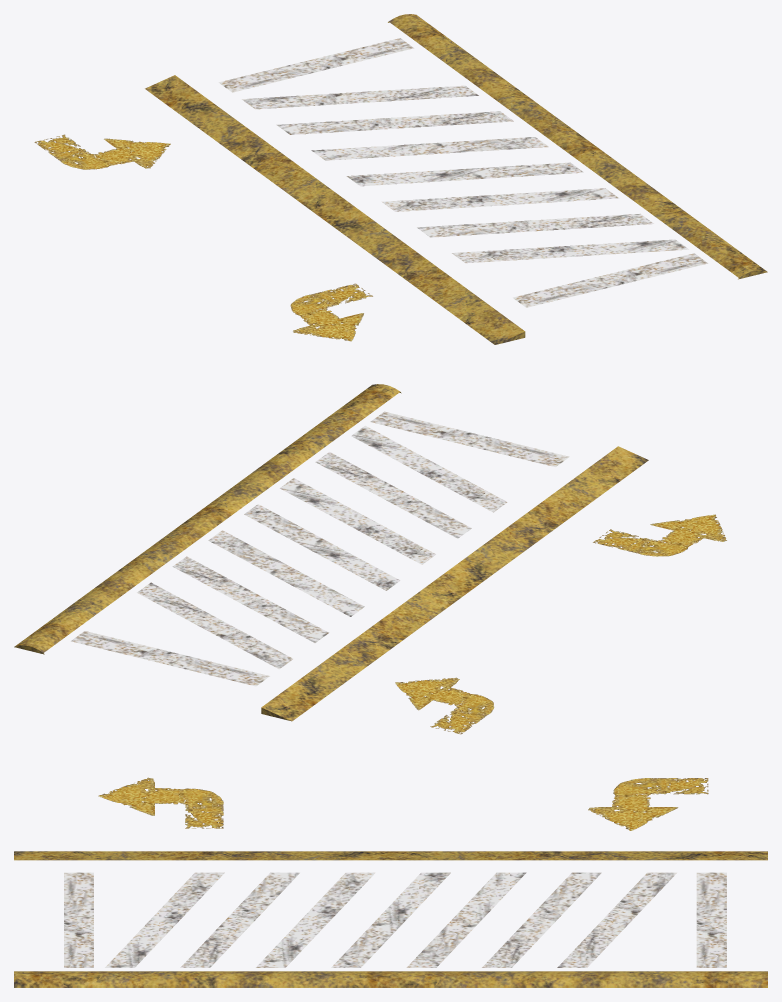
Rendered from curbentrance4m.fbx.
The picture shows the model from 3 angles, top to bottom: view 1: azimuth 30°, elevation 25°; view 2: azimuth 150°, elevation 25°; view 3: azimuth 270°, elevation 25°; orthographic projection. The views are drawn at different scales.
Visible parts, largest first — view 1: mesh_0, mesh_2, mesh_1; view 2: mesh_0, mesh_2, mesh_1; view 3: mesh_0, mesh_2, mesh_1.
Part boxes in pixels (x1,y1,x2,y2): mesh_0: (218, 38, 707, 307); mesh_2: (145, 14, 767, 344); mesh_1: (34, 134, 372, 341); mesh_0: (71, 411, 569, 686); mesh_2: (14, 384, 648, 721); mesh_1: (395, 514, 726, 734); mesh_0: (64, 872, 726, 967); mesh_2: (14, 851, 767, 987); mesh_1: (98, 777, 708, 830).
Size of the model in its own units: 700 by 17 by 1000.
3 materials, 3 textured.
